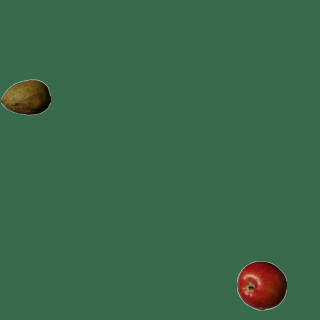Apple Braeburn: (236, 260, 286, 310)
Papaya: (0, 72, 50, 122)
